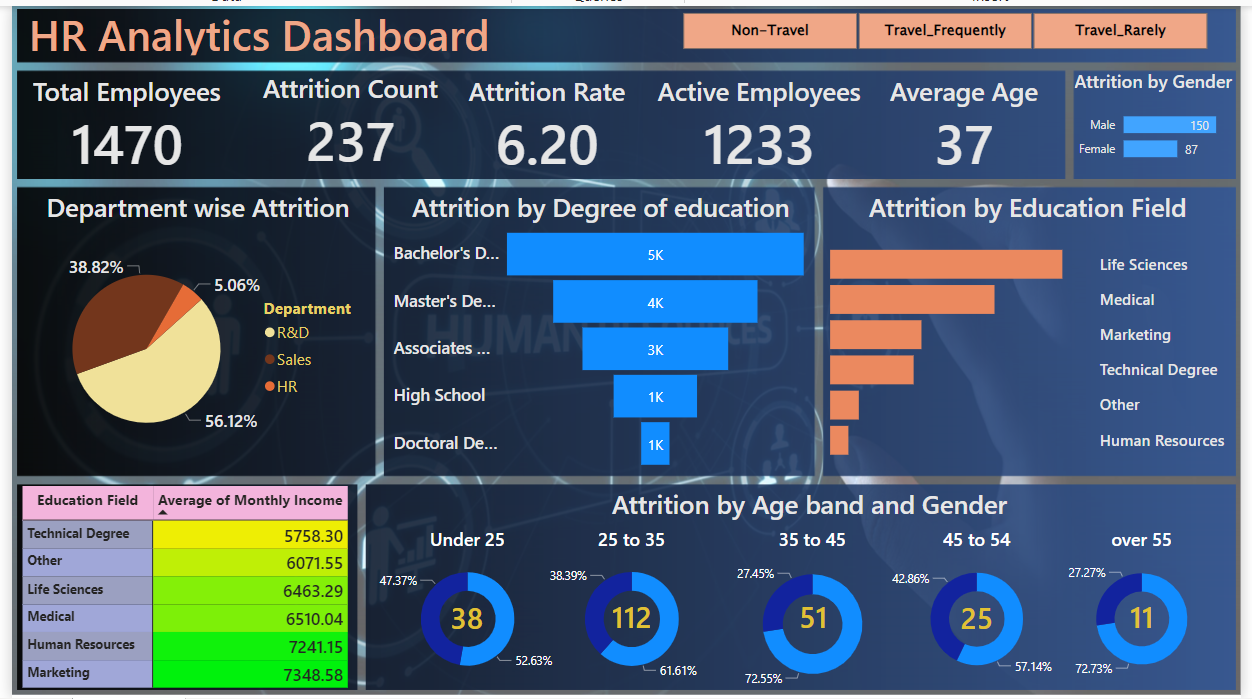

The dashboard page shown, as its layout file describes it:
{"tool":"powerbi","page":{"name":"Page 1","canvas":[1280,720],"ordinal":0},"visuals":[{"type":"card","title":"Total Employees","fields":{"Values":["Sum(Table1.Employee Count)"]},"box":[10.9,70.3,217.1,104.6],"z":0},{"type":"card","title":"Attrition Count","fields":{"Values":["Sum(Table1.AttritionCount)"]},"box":[240.5,67.2,223.3,104.6],"z":1000},{"type":"card","title":"Attrition Rate","fields":{"Values":["Table1.Attrition_rate"]},"box":[451.4,70.3,210.8,104.6],"z":2000},{"type":"card","title":"Active Employees","fields":{"Values":["Table1.Active_employees"]},"box":[662.2,70.3,231.1,104.6],"z":3000},{"type":"card","title":"Average Age","fields":{"Values":["Avg(Table1.Age)"]},"box":[893.4,70.3,195.2,104.6],"z":4000},{"type":"clusteredBarChart","title":"Attrition by Gender","fields":{"Category":["Table1.Gender"],"Y":["Sum(Table1.AttritionCount)"]},"box":[1101.1,65.6,179.6,109.3],"z":5000},{"type":"pieChart","title":"Department wise Attrition","fields":{"Category":["Table1.Department"],"Y":["Sum(Table1.AttritionCount)"]},"box":[12.5,190.5,362.3,296.7],"z":6000},{"type":"clusteredBarChart","title":"Attrition by Education Field","fields":{"Category":["Table1.Education Field"],"Y":["Sum(Table1.AttritionCount)"]},"box":[846.5,190.5,421.7,296.7],"z":8000},{"type":"funnel","title":"Attrition by Degree of education","fields":{"Category":["Table1.Education"],"Y":["Sum(Table1.Distance From Home)"]},"box":[392,190.5,442,296.7],"z":9000},{"type":"donutChart","title":"Under 25","fields":{"Category":["Table1.Gender"],"Y":["Sum(Table1.AttritionCount)"]},"box":[373.3,542,201.5,167.1],"z":10000},{"type":"donutChart","title":"25 to 35","fields":{"Category":["Table1.Gender"],"Y":["Sum(Table1.AttritionCount)"]},"box":[542,542,206.2,167.1],"z":11000},{"type":"donutChart","title":"over 55","fields":{"Category":["Table1.Gender"],"Y":["Sum(Table1.AttritionCount)"]},"box":[1083.9,542,184.3,167.1],"z":12000},{"type":"donutChart","title":"35 to 45","fields":{"Category":["Table1.Gender"],"Y":["Sum(Table1.AttritionCount)"]},"box":[730.9,542,204.6,178],"z":13000},{"type":"donutChart","title":"45 to 54","fields":{"Category":["Table1.Gender"],"Y":["Sum(Table1.AttritionCount)"]},"box":[907.4,542,193.7,167.1],"z":14000},{"type":"textbox","title":"Attrition by Age band and Gender","box":[392,499.8,876.2,42.2],"z":15000},{"type":"card","fields":{"Values":["Sum(Table1.AttritionCount)"]},"box":[445.1,612.2,56.2,50],"z":16000},{"type":"card","fields":{"Values":["Sum(Table1.AttritionCount)"]},"box":[616.9,610.7,56.2,50],"z":17000},{"type":"card","fields":{"Values":["Sum(Table1.AttritionCount)"]},"box":[805.9,610.7,56.2,50],"z":18000},{"type":"card","fields":{"Values":["Sum(Table1.AttritionCount)"]},"box":[976.1,612.2,56.2,50],"z":19000},{"type":"card","fields":{"Values":["Sum(Table1.AttritionCount)"]},"box":[1147.9,610.7,56.2,50],"z":20000},{"type":"textbox","title":"HR Analytics Dashboard","box":[12.5,0,529.5,51.5],"z":21000},{"type":"slicer","fields":{"Values":["Table1.Business Travel"]},"box":[673.1,0,595.1,51.5],"z":22000},{"type":"pivotTable","fields":{"Rows":["Table1.Education Field"],"Values":["Avg(Table1.Monthly Income)"]},"box":[10.9,499.8,381.1,220.2],"z":23000}]}

Visuals, with their boxes in screenshot pixels (x1, y1, x2, y2), scaled from the page's 1280x720 canvas onto the 1252x699 screenshot:
"Total Employees" card: (11, 68, 223, 170)
"Attrition Count" card: (235, 65, 454, 167)
"Attrition Rate" card: (442, 68, 648, 170)
"Active Employees" card: (648, 68, 874, 170)
"Average Age" card: (874, 68, 1065, 170)
"Attrition by Gender" clusteredBarChart: (1077, 64, 1251, 170)
"Department wise Attrition" pieChart: (12, 185, 367, 473)
"Attrition by Education Field" clusteredBarChart: (828, 185, 1240, 473)
"Attrition by Degree of education" funnel: (383, 185, 816, 473)
"Under 25" donutChart: (365, 526, 562, 688)
"25 to 35" donutChart: (530, 526, 732, 688)
"over 55" donutChart: (1060, 526, 1240, 688)
"35 to 45" donutChart: (715, 526, 915, 698)
"45 to 54" donutChart: (888, 526, 1077, 688)
"Attrition by Age band and Gender" textbox: (383, 485, 1240, 526)
card - Sum(Table1.AttritionCount): (435, 594, 490, 643)
card - Sum(Table1.AttritionCount): (603, 593, 658, 641)
card - Sum(Table1.AttritionCount): (788, 593, 843, 641)
card - Sum(Table1.AttritionCount): (955, 594, 1010, 643)
card - Sum(Table1.AttritionCount): (1123, 593, 1178, 641)
"HR Analytics Dashboard" textbox: (12, 0, 530, 50)
slicer - Table1.Business Travel: (658, 0, 1240, 50)
pivotTable - Table1.Education Field x Avg(Table1.Monthly Income): (11, 485, 383, 698)
